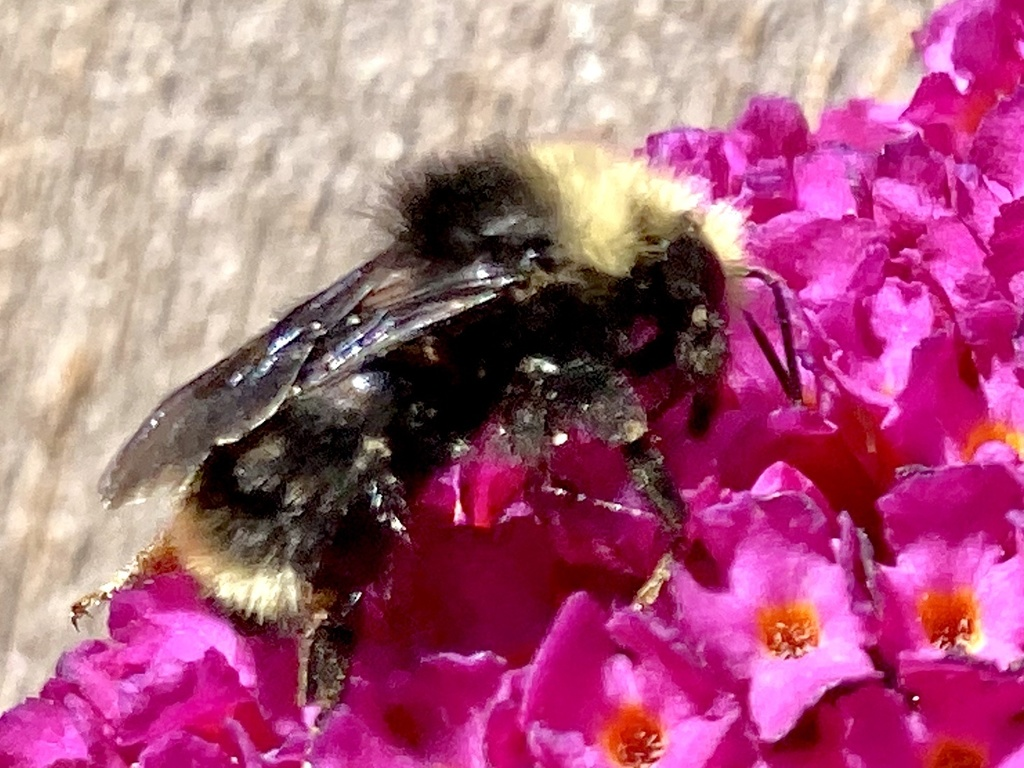bumblebee: (72, 130, 805, 737)
